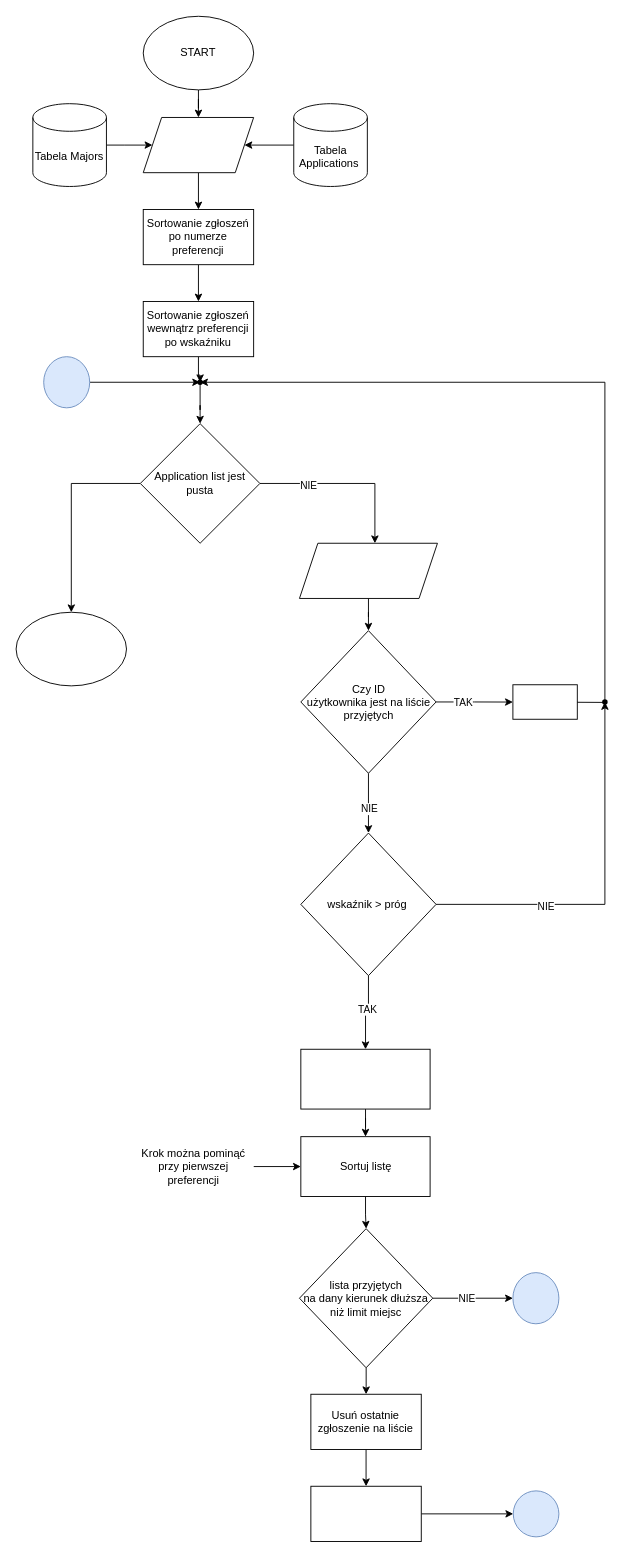
Some shapes in this 630 by 1558 pixel diagram are drawn without their labels. The shapes that lost their labels are listed below. From the top down, each one's box as (x1, y1, x2, y2) in pixels, then its label:
(142, 117, 254, 173): Input data
(299, 542, 437, 598): Wczytaj zgłoszenie i
(15, 611, 126, 686): STOP
(512, 684, 577, 719): I += 1
(300, 1048, 430, 1109): Dodaj zgłoszenie do listy przyjętych na dany kierunek
(310, 1485, 421, 1541): i = 0
